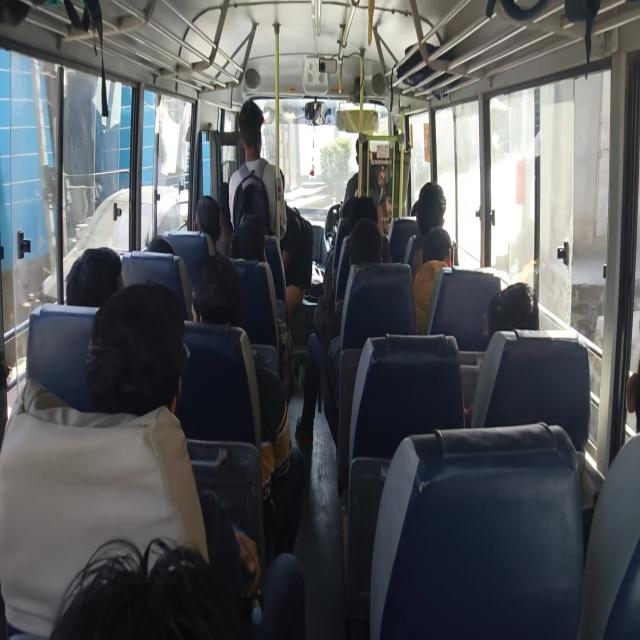person: (84, 298, 228, 478), (79, 510, 275, 640), (58, 252, 150, 335), (193, 278, 249, 371), (491, 298, 565, 356), (233, 98, 291, 166), (335, 223, 407, 269), (592, 367, 640, 431), (138, 236, 182, 291), (417, 177, 451, 237), (264, 150, 294, 213), (427, 224, 457, 269), (232, 225, 260, 269), (408, 189, 430, 238), (214, 180, 239, 217), (190, 192, 216, 224), (355, 195, 378, 226), (340, 190, 370, 213), (246, 208, 271, 234)
